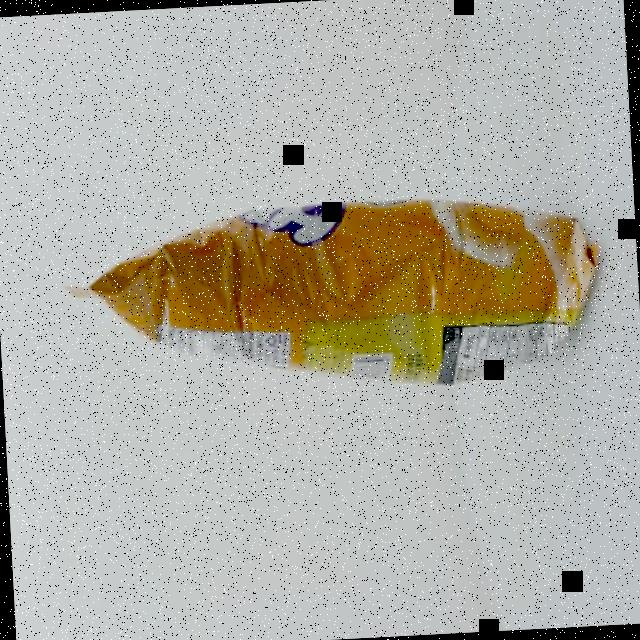snack_bag: (49, 172, 612, 416)
